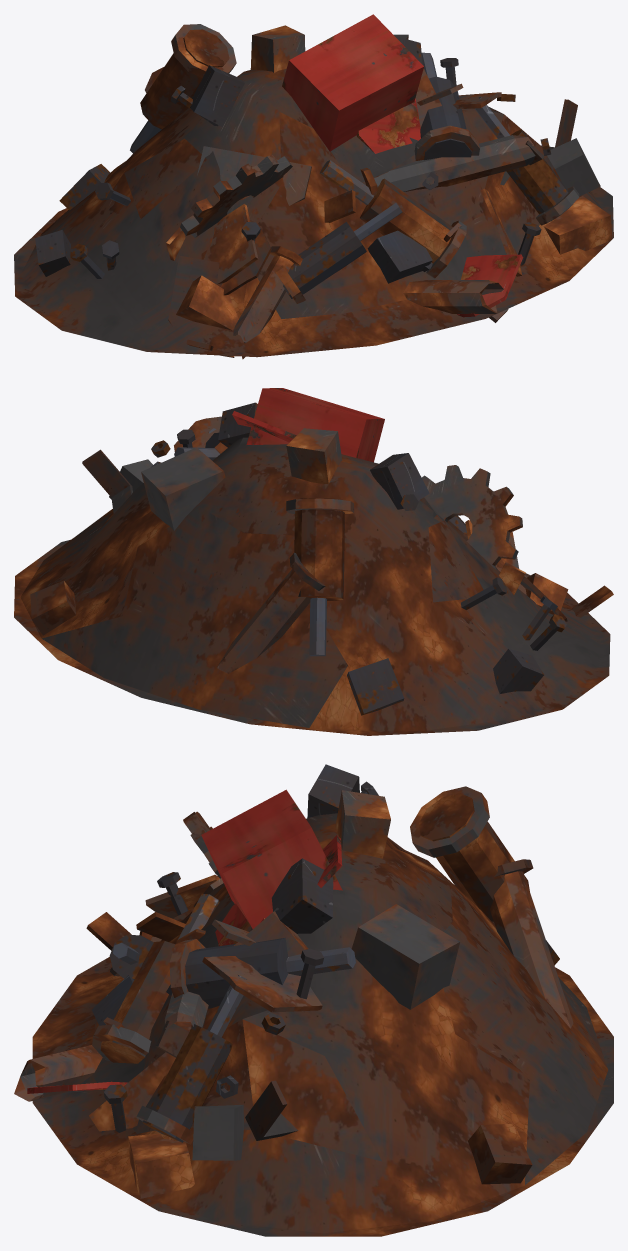
Rendered from Metal_Parts_Heap.glb.
3 views of the same model, one above another, from view 1: azimuth 30°, elevation 25°; view 2: azimuth 150°, elevation 25°; view 3: azimuth 270°, elevation 25° (orthographic). The views are drawn at different scales.
Visible parts, largest first — view 1: Metal_Parts_Heap; view 2: Metal_Parts_Heap; view 3: Metal_Parts_Heap.
Boxes of the visible parts, <box> form: Metal_Parts_Heap: <box>14,14,613,359</box>; Metal_Parts_Heap: <box>14,388,613,735</box>; Metal_Parts_Heap: <box>14,764,613,1236</box>.
Size of the model in its own units: 1.94 by 0.8316 by 1.47.
5 materials, 5 textured.
